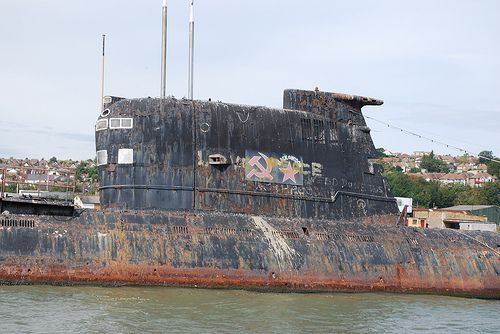rust: (4, 255, 492, 295), (238, 197, 294, 217)
